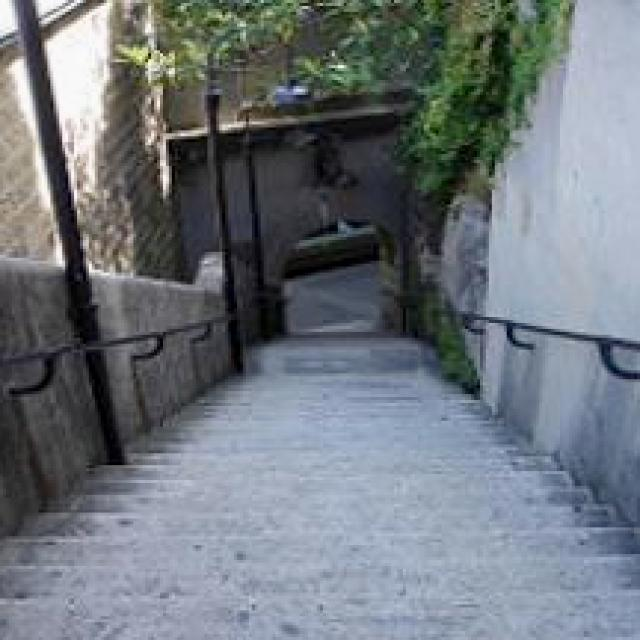downstair: (55, 466, 538, 640)
